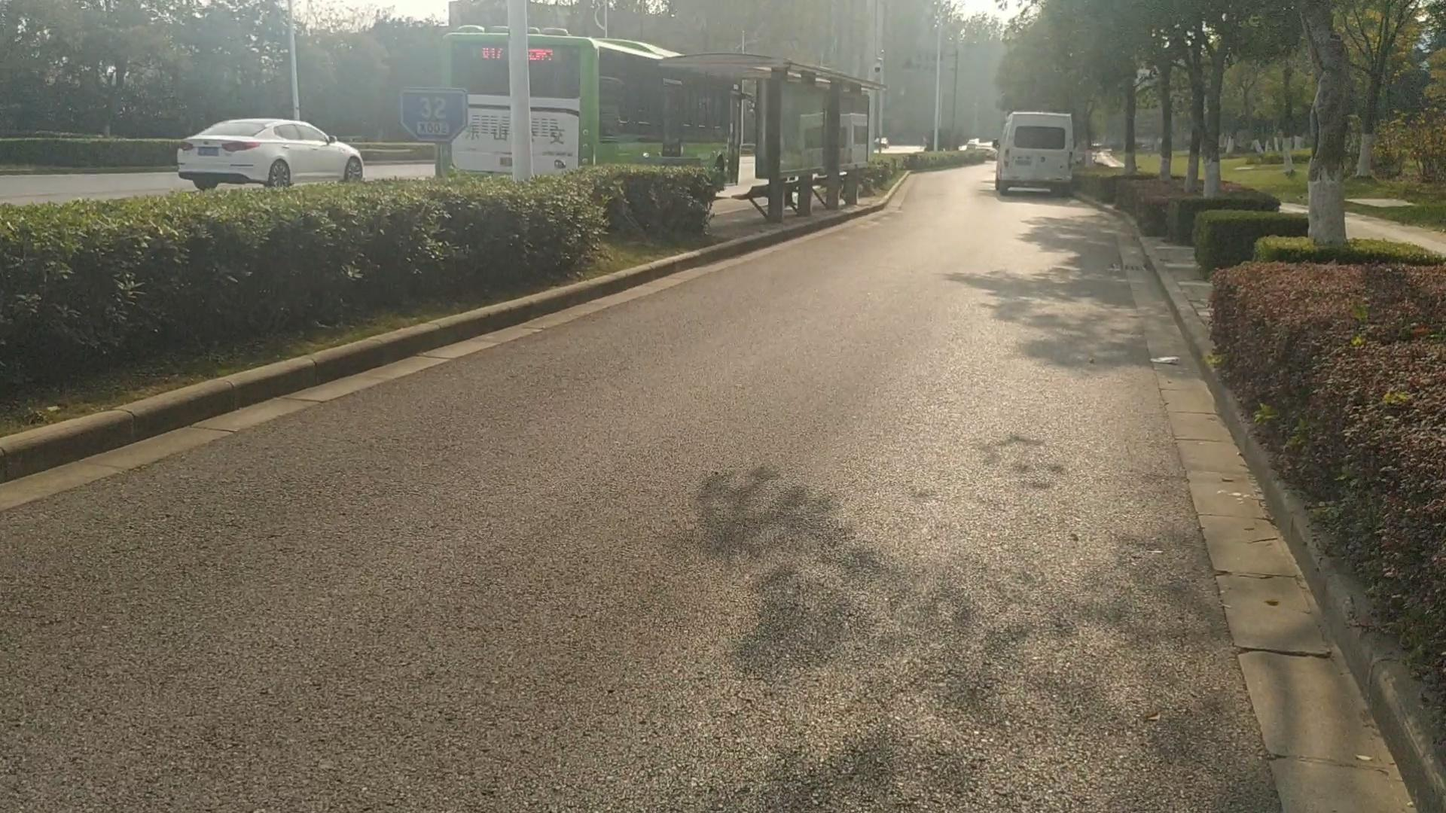car: (177, 117, 365, 188), (1088, 146, 1123, 170), (961, 140, 993, 156)
